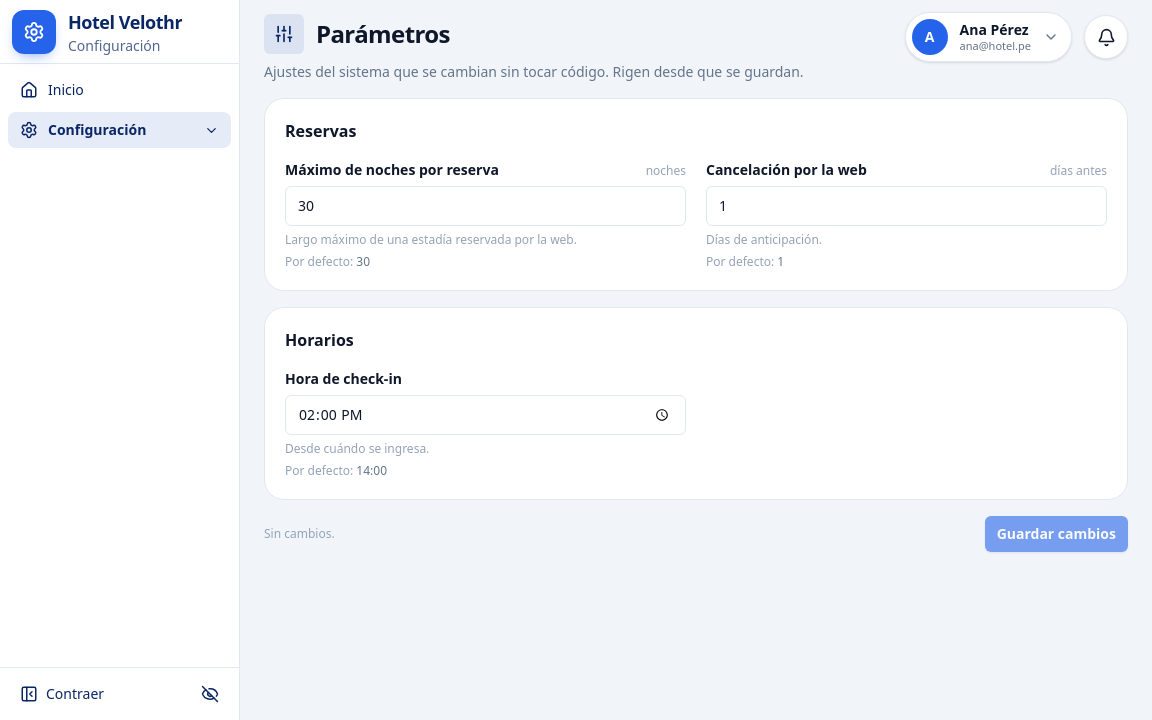
Test: Parámetros › «Restablecer» devuelve el valor por defecto en el formulario
This screenshot has width=1152, height=720.
Replace the text in the field labelled "Máximo de noches por reserva" with "45" at (486, 206), box [298, 196, 673, 216]
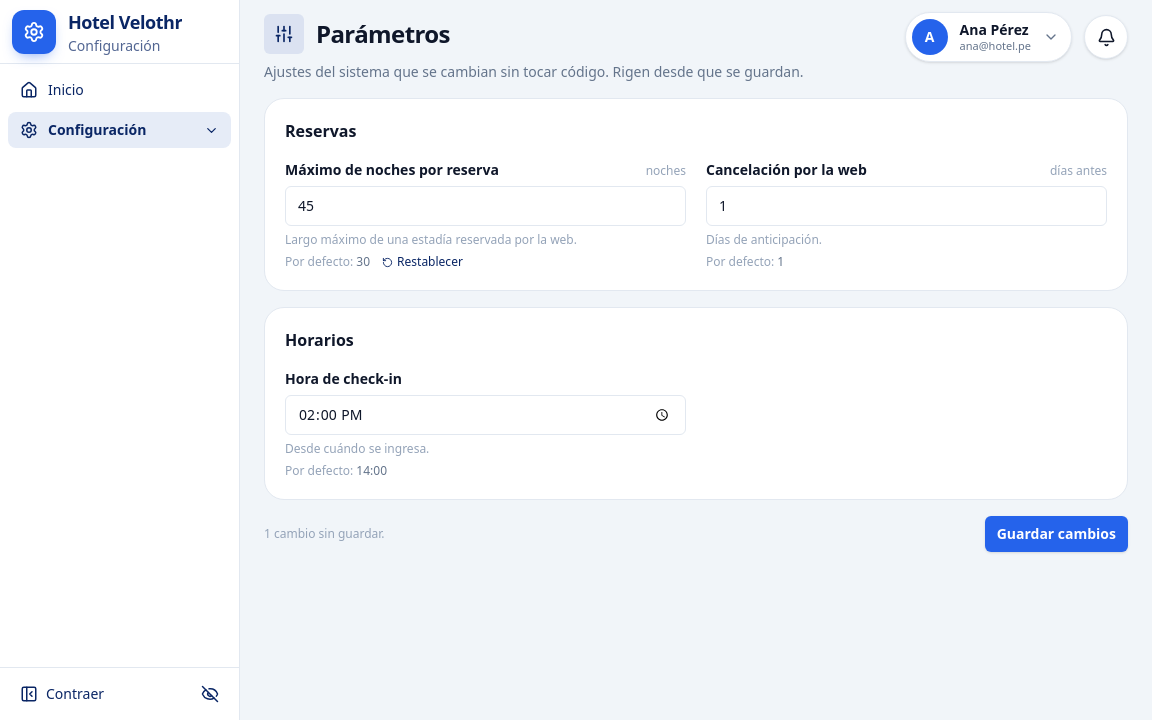
Click the button "Restablecer" at (422, 262), box [382, 254, 463, 270]
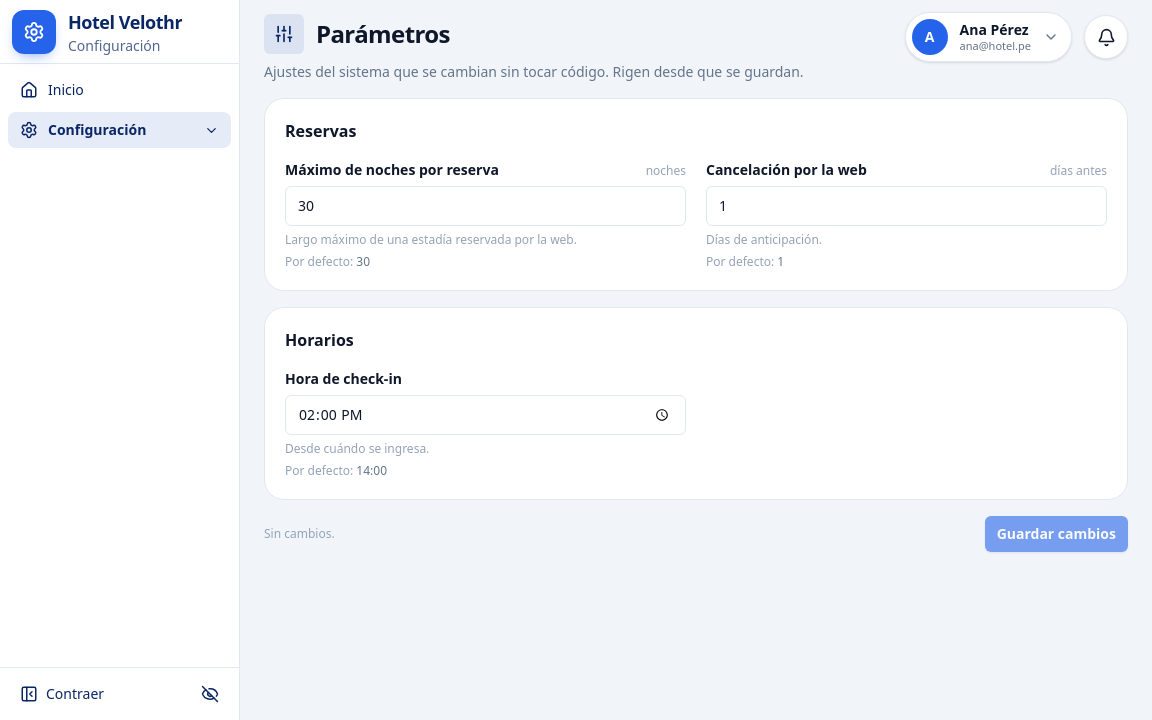
Expected: the field labelled "Máximo de noches por reserva" holds "30", [298, 196, 673, 216]
Expected: the text "Sin cambios." is shown, [264, 526, 335, 542]
